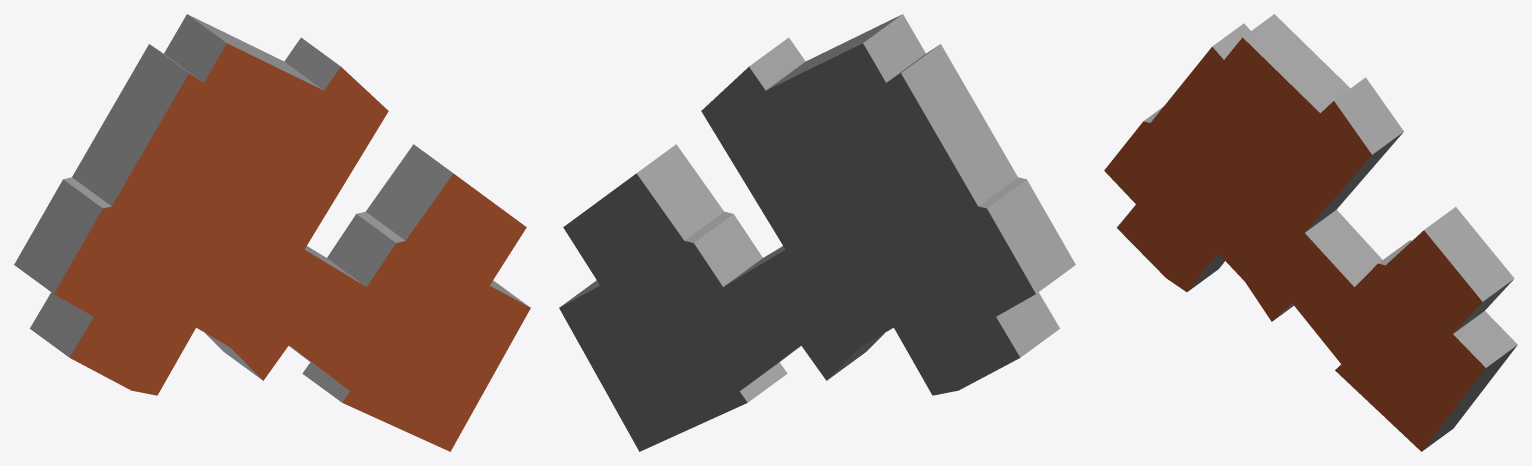
The model's file is construction_3522_assumed_A_Casa_h6m.obj.
3 views of the same model, side by side, from view 1: azimuth 30°, elevation 25°; view 2: azimuth 150°, elevation 25°; view 3: azimuth 330°, elevation 25° (orthographic). The views are drawn at different scales.
Visible parts, largest first — view 1: construction_3522_assumed_A_Casa; view 2: construction_3522_assumed_A_Casa; view 3: construction_3522_assumed_A_Casa.
Boxes of the visible parts, <box> form: construction_3522_assumed_A_Casa: <box>14,14,530,451</box>; construction_3522_assumed_A_Casa: <box>559,14,1075,451</box>; construction_3522_assumed_A_Casa: <box>1104,14,1517,451</box>.
Size of the model in its own units: 41.42 by 38.45 by 6.
